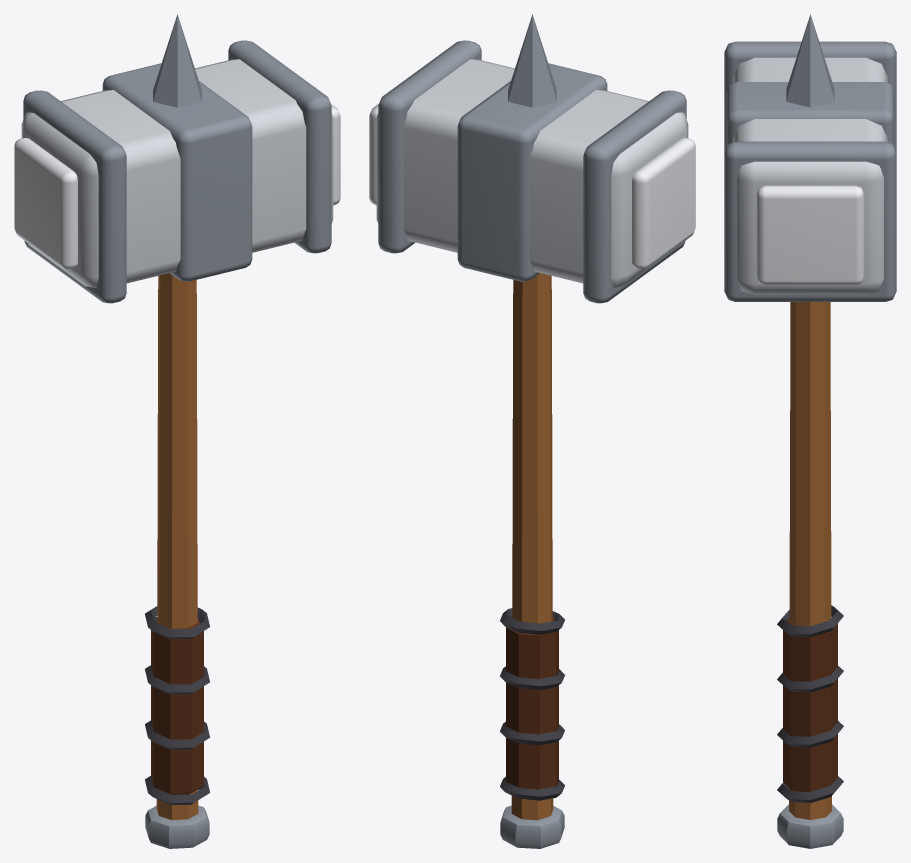
The model's file is IronWarHammer.fbx.
3 views of the same model, side by side, from view 1: azimuth 30°, elevation 25°; view 2: azimuth 150°, elevation 25°; view 3: azimuth 270°, elevation 25° (orthographic).
Visible parts, largest first — view 1: IronWarHammer; view 2: IronWarHammer; view 3: IronWarHammer.
Boxes of the visible parts, x1,y1,x2,y2 form: IronWarHammer: [14, 14, 340, 848]; IronWarHammer: [369, 14, 695, 848]; IronWarHammer: [724, 14, 896, 848].
Bounding box in the file's own units: 1.5 × 4.23 × 0.8.
1 material, 1 textured.
